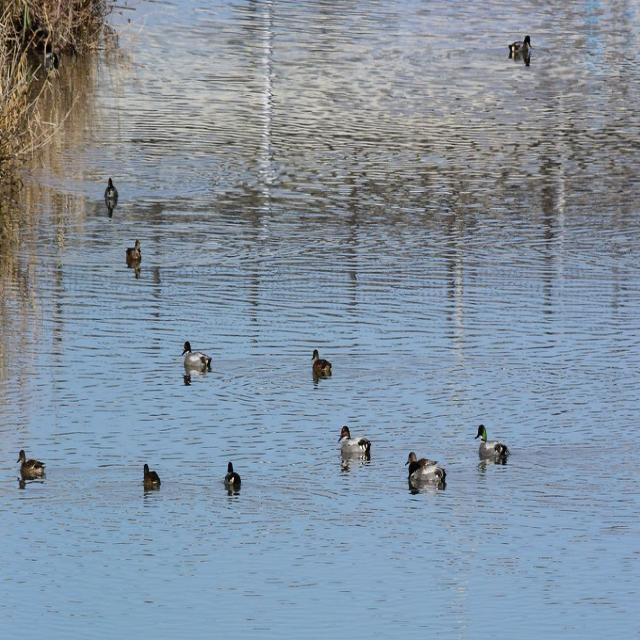bird: (402, 452, 448, 494), (473, 422, 511, 463), (338, 424, 374, 466), (179, 342, 215, 379), (13, 450, 47, 489), (506, 34, 533, 68), (307, 350, 332, 386), (102, 175, 118, 224), (123, 237, 142, 277), (140, 462, 162, 493), (220, 460, 240, 494)
